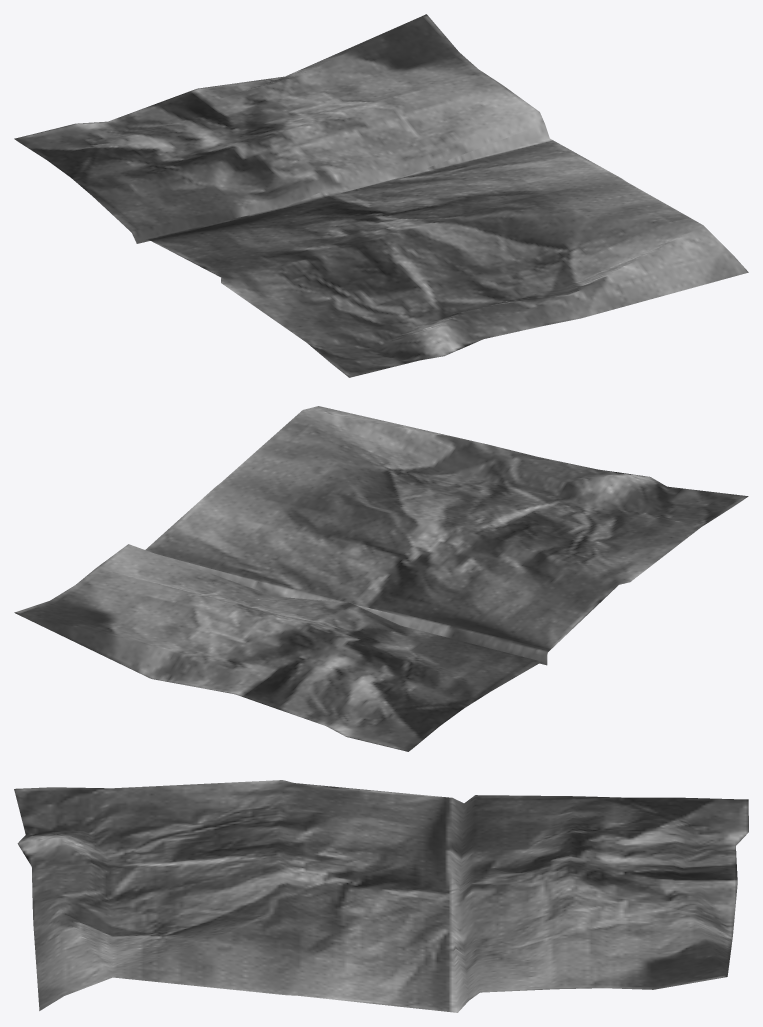
File: napkin_2.fbx
3 renders of one model, top to bottom at view 1: azimuth 30°, elevation 25°; view 2: azimuth 150°, elevation 25°; view 3: azimuth 270°, elevation 25°, orthographic. The views are drawn at different scales.
Parts seen in each view (by area): view 1: napkin_002; view 2: napkin_002; view 3: napkin_002.
Part boxes in pixels (x1,y1,x2,y2): napkin_002: (14,14,748,377); napkin_002: (14,406,748,751); napkin_002: (14,780,748,1012).
Size of the model in its own units: 20.09 by 1.89 by 28.18.
